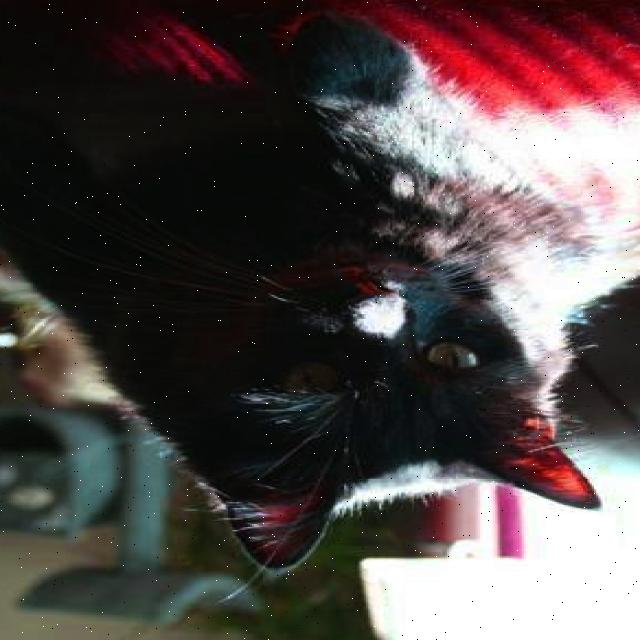Cat: (106, 216, 625, 539)
